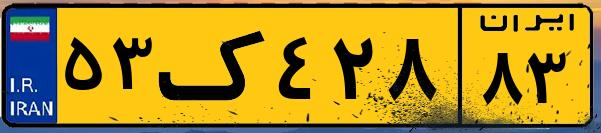2: (330, 28, 385, 110)
3: (525, 38, 570, 115), (110, 28, 158, 98)
4: (270, 28, 330, 110)
5: (57, 26, 110, 100)
8: (385, 28, 445, 110), (475, 38, 525, 113)
ک: (158, 12, 270, 120)
